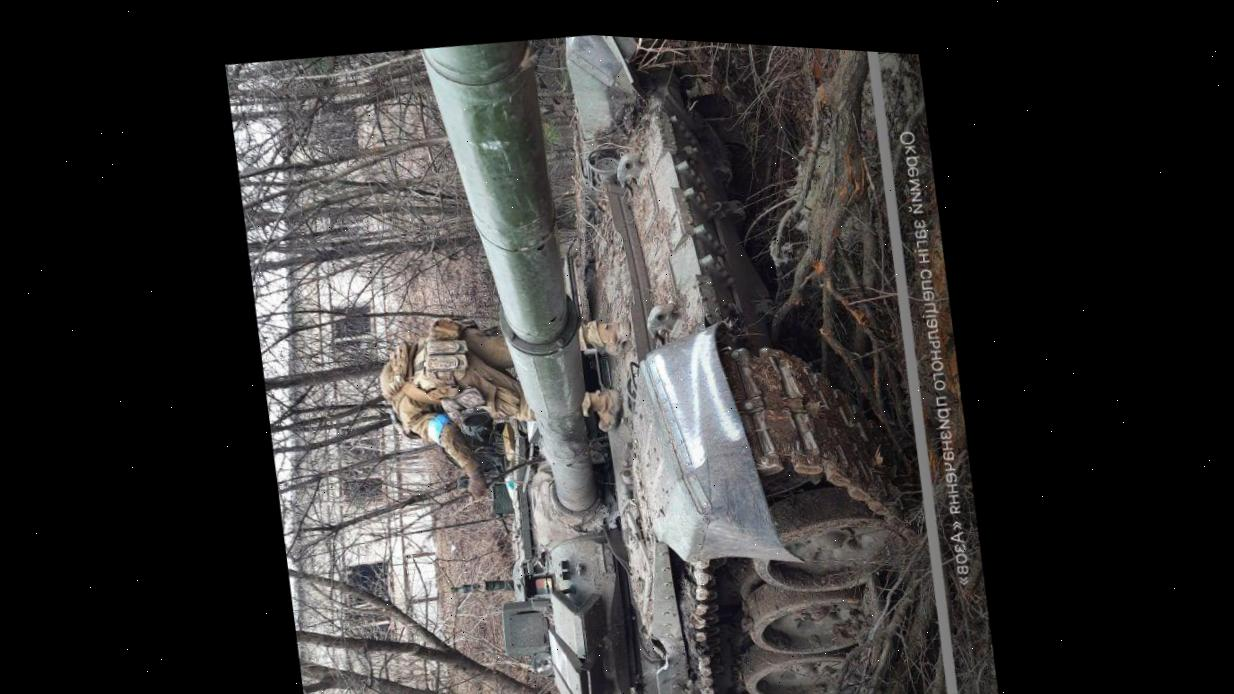tank: (359, 22, 913, 694)
